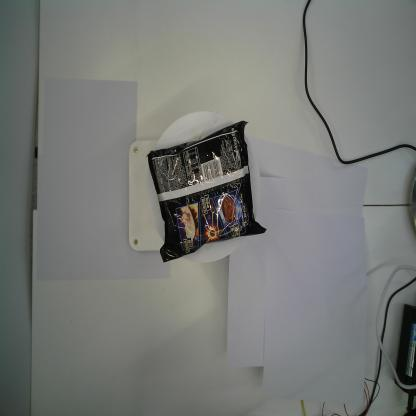Instant Noodles: (146, 118, 268, 264)
